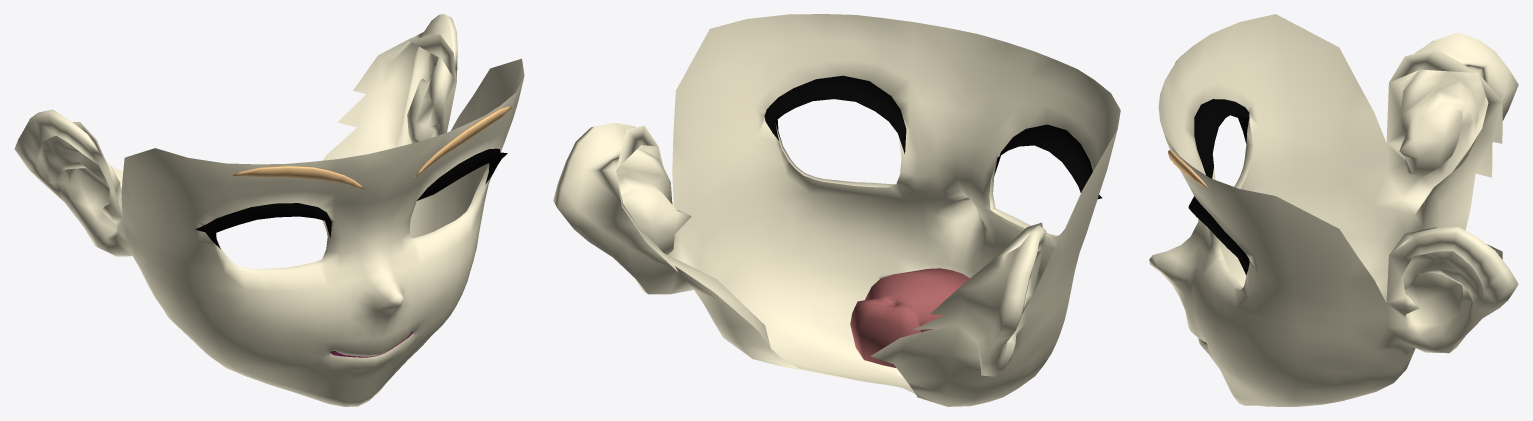
File: Unitychan_USS_Head.fbx
The picture shows the model from 3 angles, left to right: view 1: azimuth 30°, elevation 25°; view 2: azimuth 150°, elevation 25°; view 3: azimuth 270°, elevation 25°; orthographic projection. The views are drawn at different scales.
Visible parts, largest first — view 1: headBase; view 2: headBase; view 3: headBase.
Boxes of the visible parts, box(x1,y1,x2,y2) form: headBase: box(14, 14, 524, 406); headBase: box(553, 14, 1120, 406); headBase: box(1149, 14, 1518, 406).
Size of the model in its own units: 25.25 by 16.58 by 18.89.
Materials: 1 (1 with a texture image).
